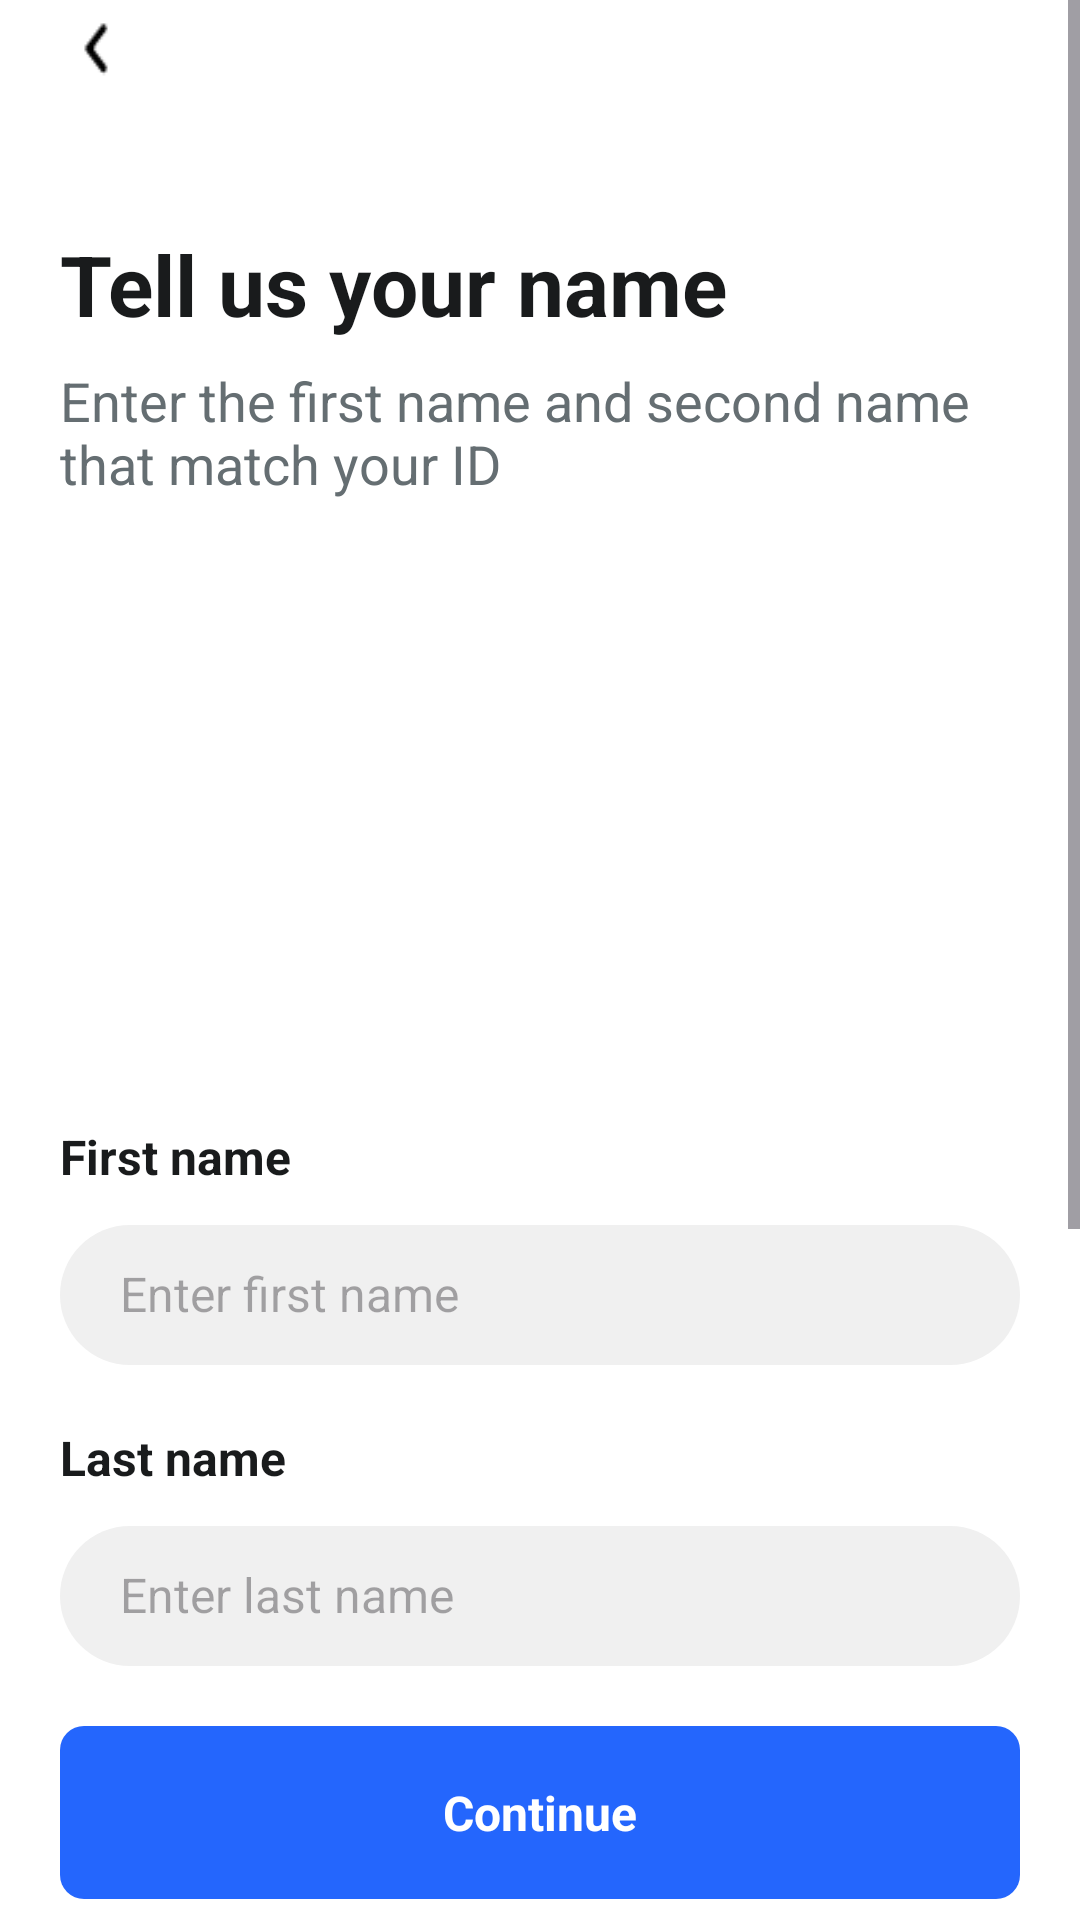

Locate icon controls on the screen. Image size 1080 x 1920, boxes as (x1, y1, x2, y2).
back: (84, 23, 108, 74)
